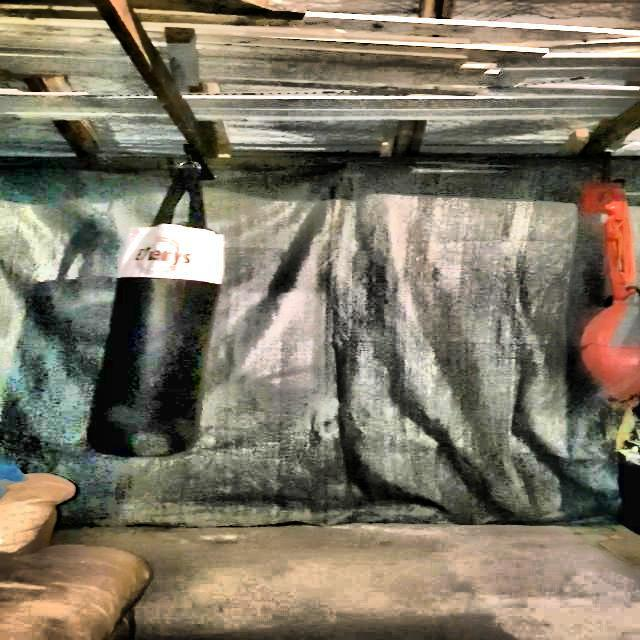boxing-bag: (90, 140, 222, 473)
